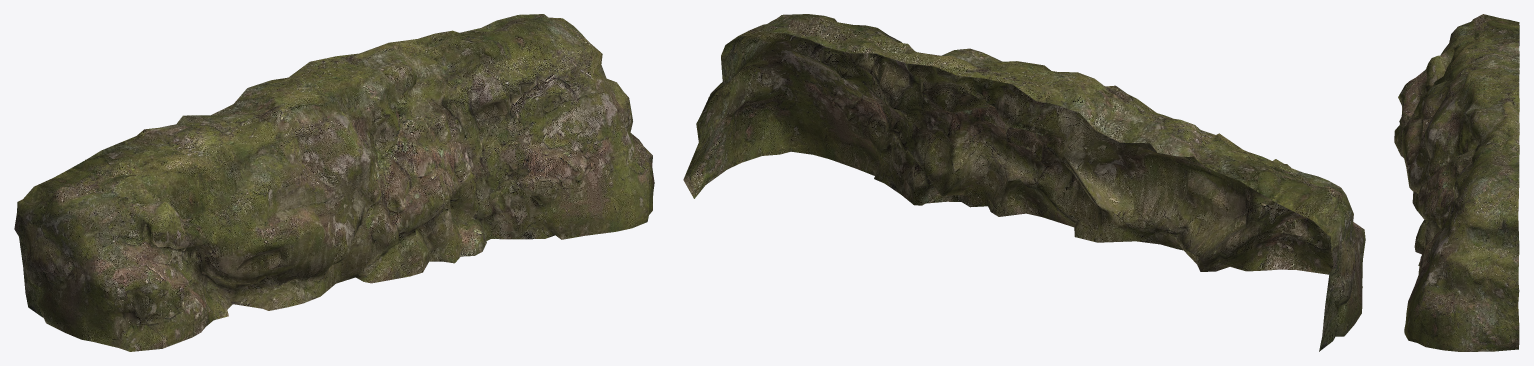
The model's file is cliff_a.glb.
3 views of the same model, side by side, from view 1: azimuth 30°, elevation 25°; view 2: azimuth 150°, elevation 25°; view 3: azimuth 270°, elevation 25° (orthographic). The views are drawn at different scales.
Visible parts, largest first — view 1: cliffA_S_Nordic_Forest_Cliff_Large_xibjbg3_lod3_LOD0; view 2: cliffA_S_Nordic_Forest_Cliff_Large_xibjbg3_lod3_LOD0; view 3: cliffA_S_Nordic_Forest_Cliff_Large_xibjbg3_lod3_LOD0.
Part boxes in pixels (x1,y1,x2,y2): cliffA_S_Nordic_Forest_Cliff_Large_xibjbg3_lod3_LOD0: [14, 14, 654, 351]; cliffA_S_Nordic_Forest_Cliff_Large_xibjbg3_lod3_LOD0: [683, 14, 1365, 351]; cliffA_S_Nordic_Forest_Cliff_Large_xibjbg3_lod3_LOD0: [1394, 14, 1519, 351].
Size of the model in its own units: 22.59 by 6.57 by 4.97.
Materials: 1 (1 with a texture image).
